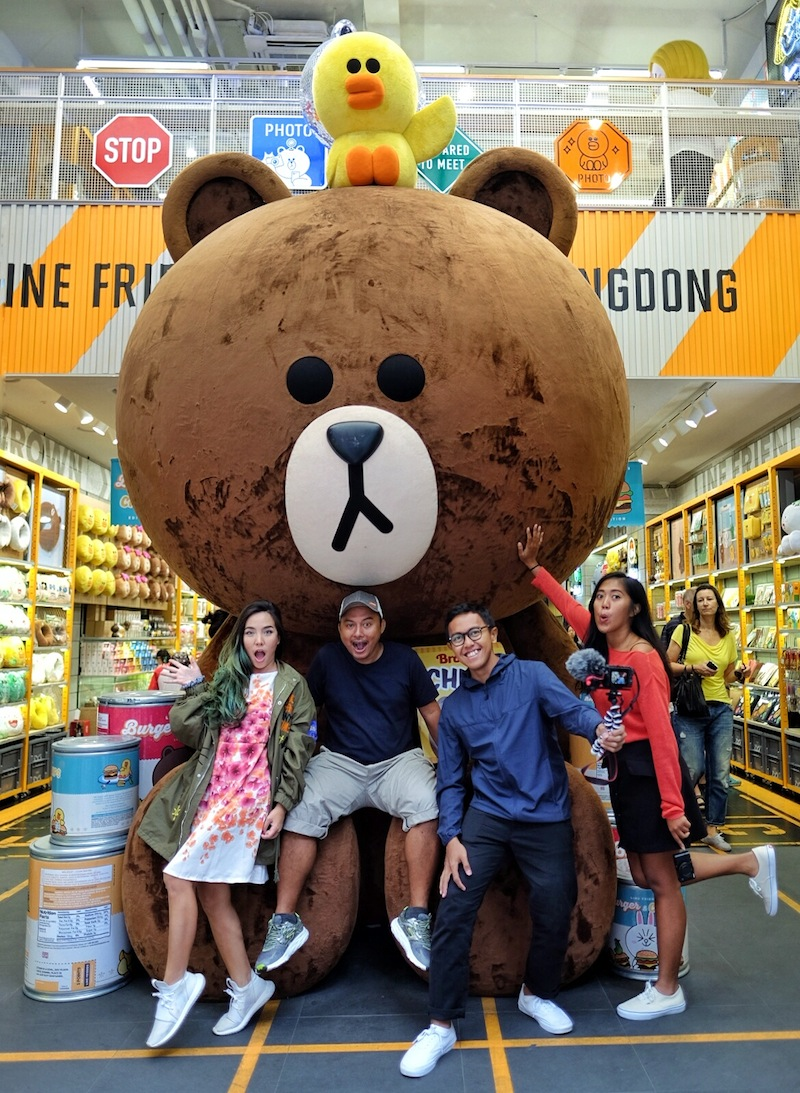line_brown: (123, 143, 647, 667)
